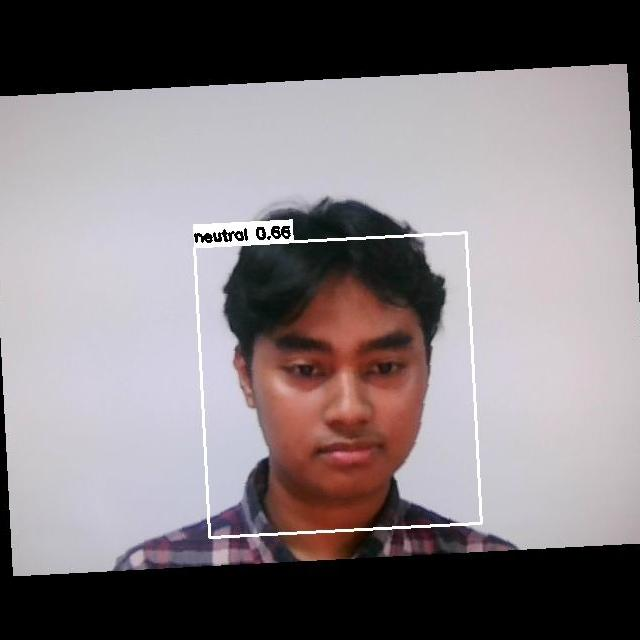Natural: (262, 325, 432, 475)
